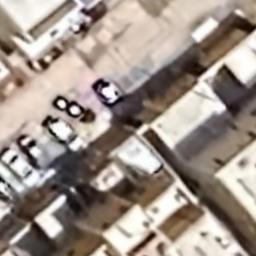sedan: (0, 145, 41, 191), (45, 117, 87, 154), (16, 132, 50, 170)
unknown: (90, 76, 128, 108)
